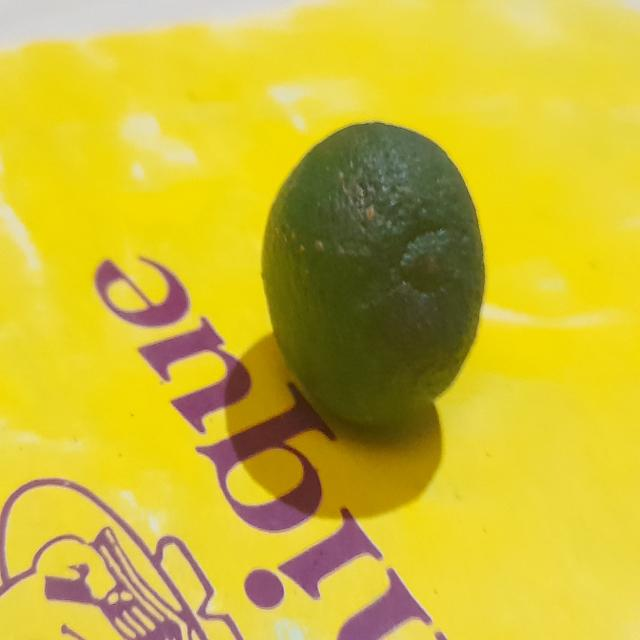heathy: (262, 120, 488, 435)
